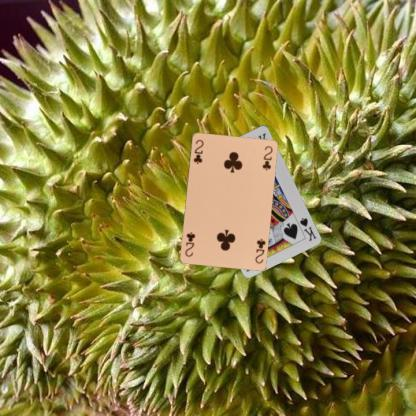2c: (190, 137, 204, 165), (252, 236, 266, 264)
Ks: (298, 215, 318, 243)
